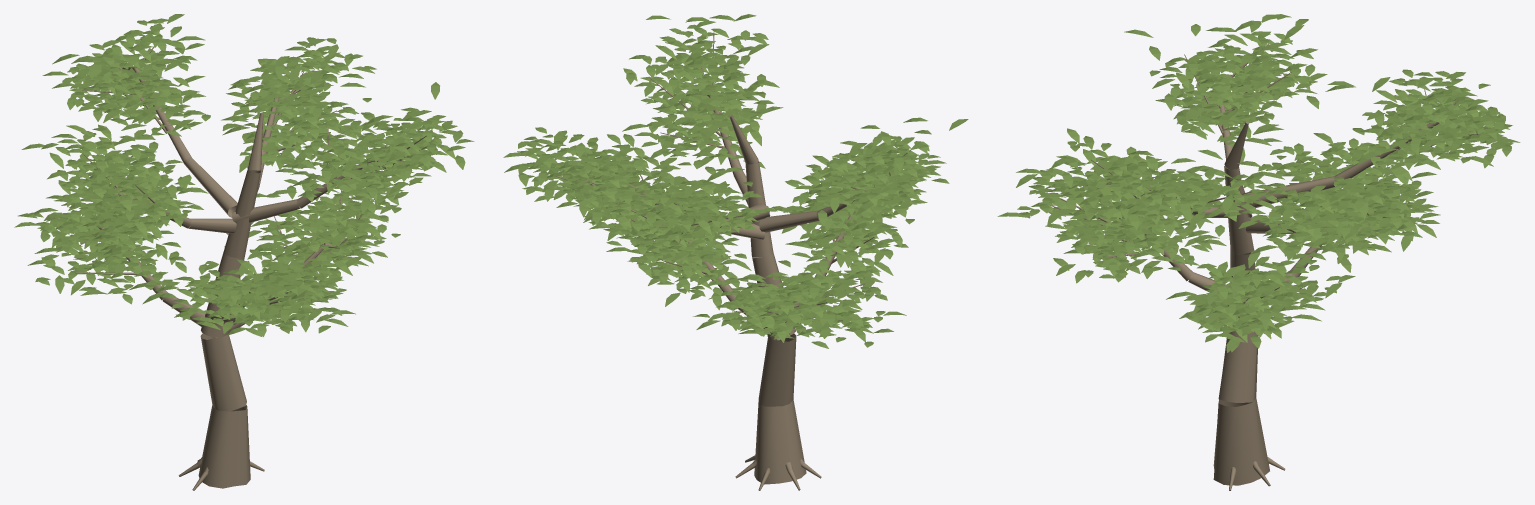
The model's file is canopy_lod0.glb.
3 renders of one model, left to right at view 1: azimuth 30°, elevation 25°; view 2: azimuth 150°, elevation 25°; view 3: azimuth 270°, elevation 25°, orthographic. The views are drawn at different scales.
Parts seen in each view (by area): view 1: Leaves, Bark; view 2: Leaves, Bark; view 3: Leaves, Bark.
Boxes of the visible parts, left/top/right/bottom form: Leaves: left=14, top=14, right=474, bottom=336; Bark: left=54, top=46, right=427, bottom=490; Leaves: left=503, top=14, right=968, bottom=348; Bark: left=556, top=31, right=917, bottom=490; Leaves: left=997, top=14, right=1520, bottom=352; Bark: left=1049, top=43, right=1478, bottom=490.
Size of the model in its own units: 10.38 by 10.23 by 11.87.
